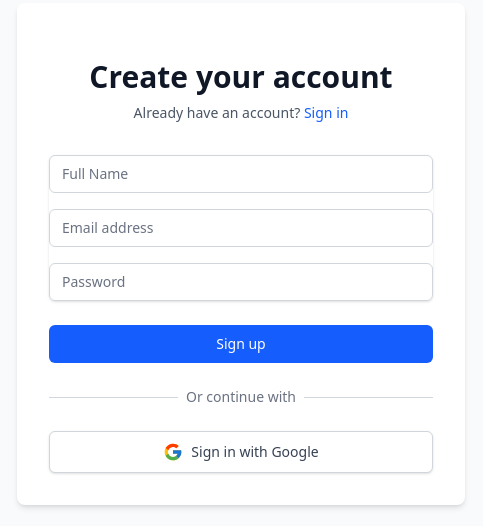
Test: Signup Component › handles successful signup and shows verification form
In the field with placeholder "Full Name": {"x": 241, "y": 174} [49,155,433,193], type "John Doe"
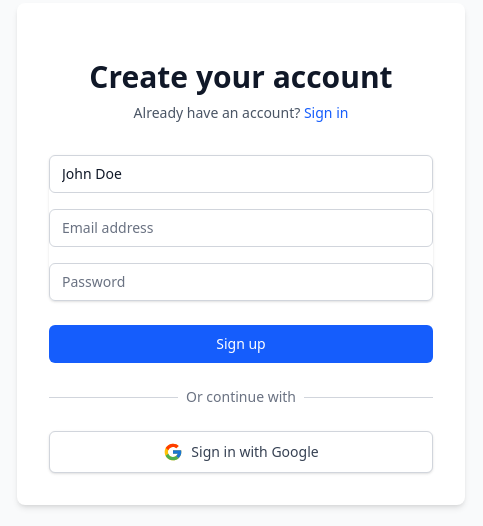
In the field with placeholder "Email address": {"x": 241, "y": 228} [49,209,433,247], type "test@example.com"
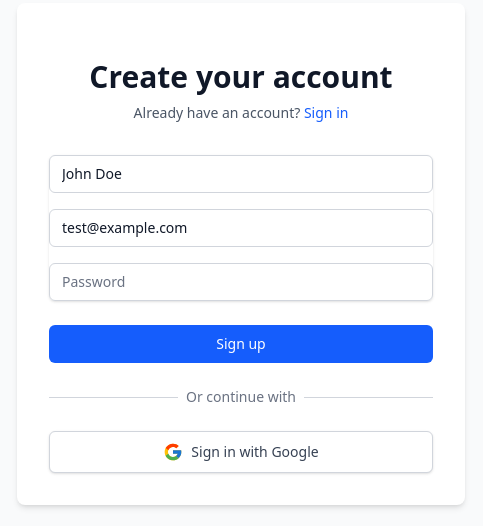
In the password field with placeholder "Password": {"x": 241, "y": 282} [49,263,433,301], type "password123"
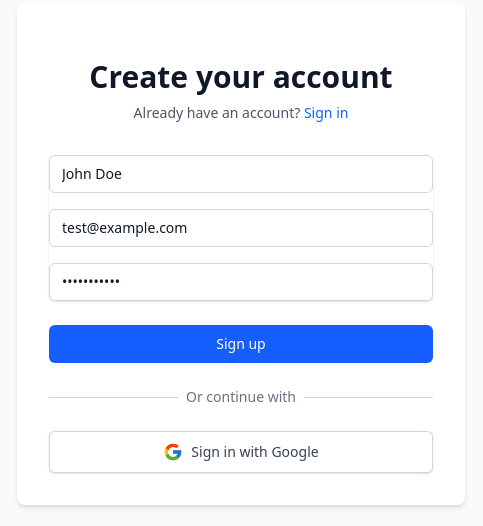
Click the button "Sign up": {"x": 241, "y": 344} [49,325,433,363]
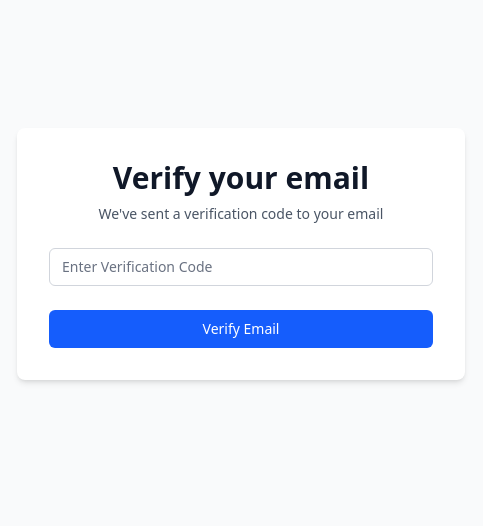
Expected: the heading "Verify your email" is shown, [113,157,369,198]
Expected: the field with placeholder "Enter Verification Code" is shown, [49,248,433,286]
Expected: the button "Verify Email" is shown, [49,310,433,348]
